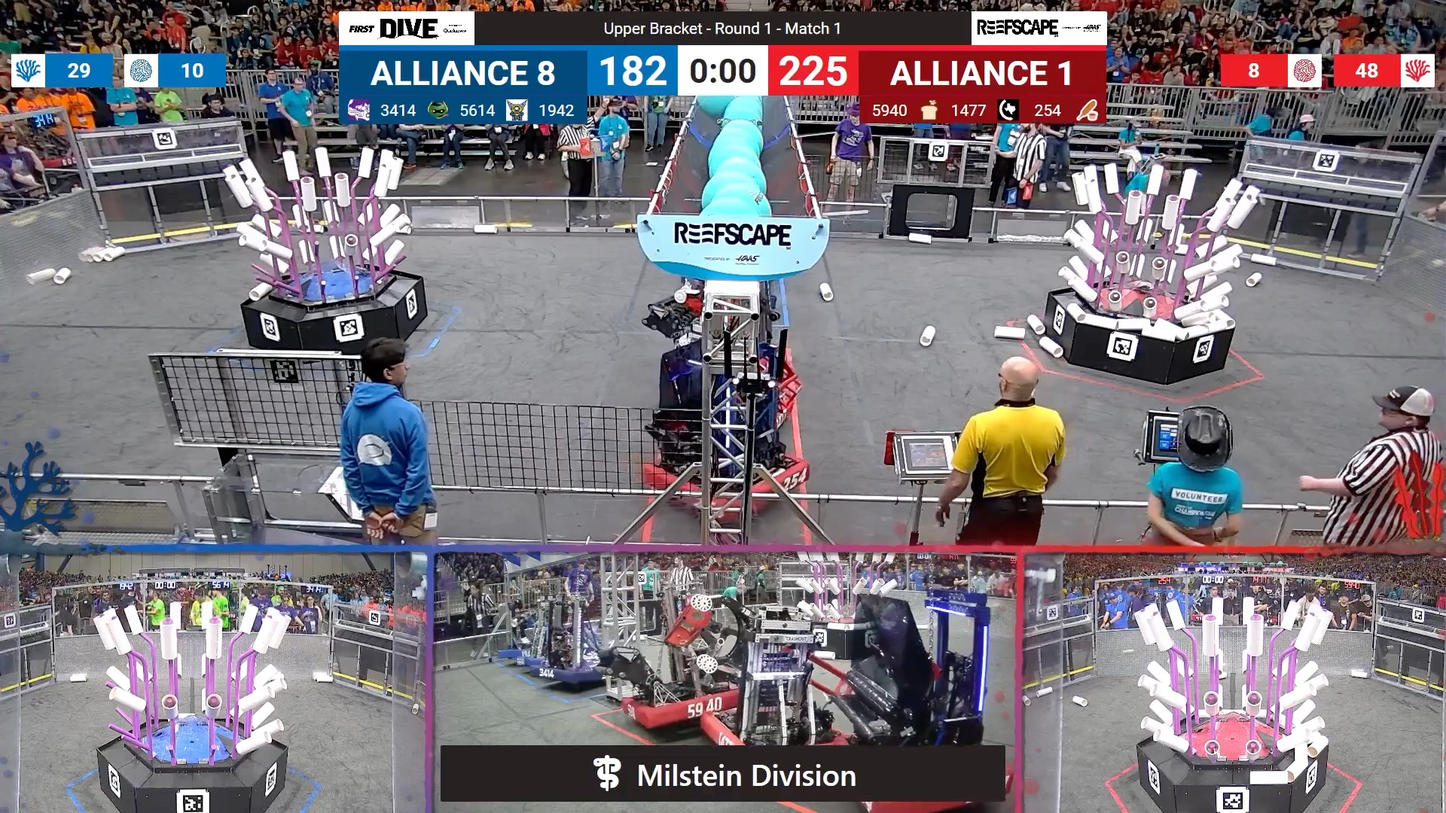bumpers: (638, 445, 806, 518), (617, 683, 732, 723), (513, 658, 624, 689), (495, 652, 538, 668)
